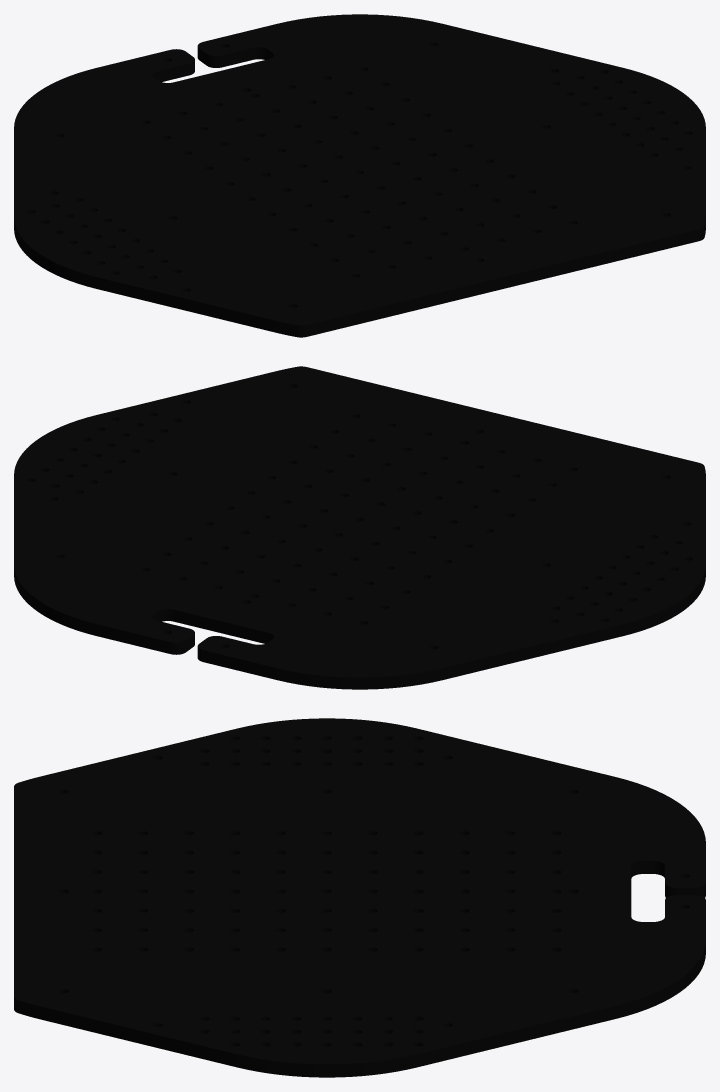
The model's file is disk_03_hex.dae.
3 renders of one model, top to bottom at view 1: azimuth 30°, elevation 25°; view 2: azimuth 150°, elevation 25°; view 3: azimuth 270°, elevation 25°, orthographic. The views are drawn at different scales.
Parts seen in each view (by area): view 1: node; view 2: node; view 3: node.
Part boxes in pixels (x1,y1,x2,y2): node: (14, 14, 705, 337); node: (14, 366, 705, 689); node: (14, 718, 705, 1077).
Bounding box in the file's own units: 340 × 6 × 287.
Materials: 1 (1 with a texture image).
